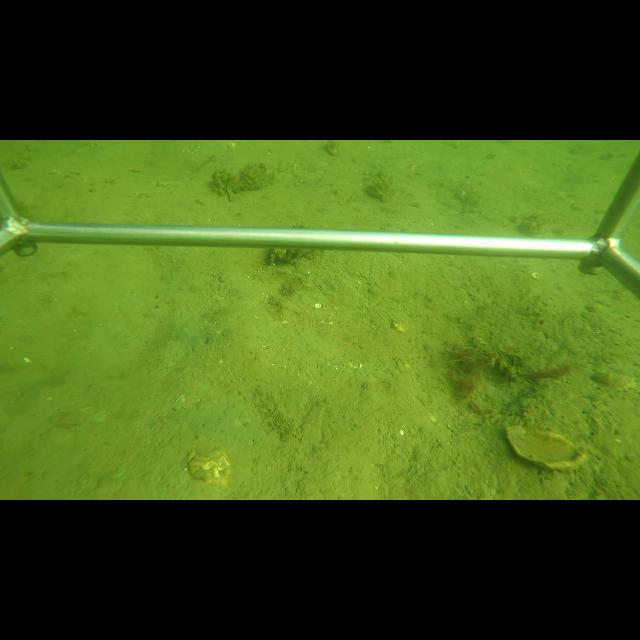Oyster-Closed: (504, 426, 588, 470), (224, 180, 240, 204)
